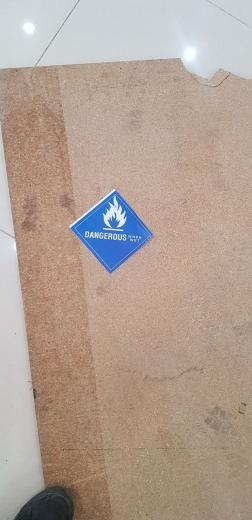Dangerous when wet: (69, 189, 152, 273)
